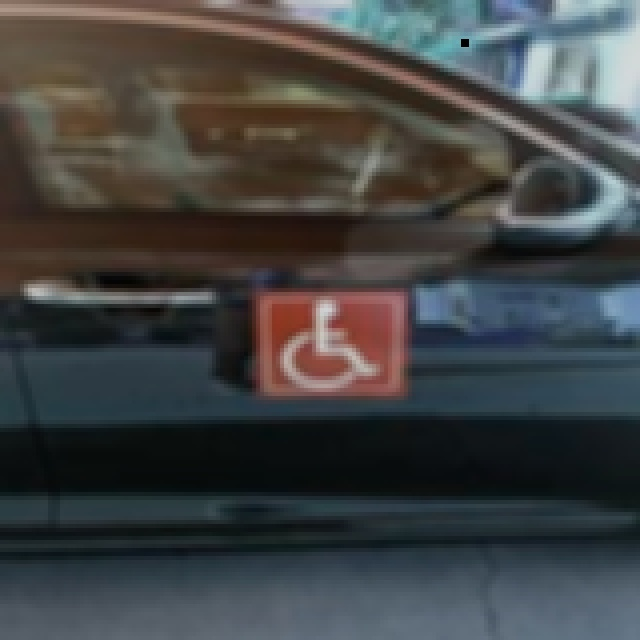ISA: (268, 301, 393, 389)
